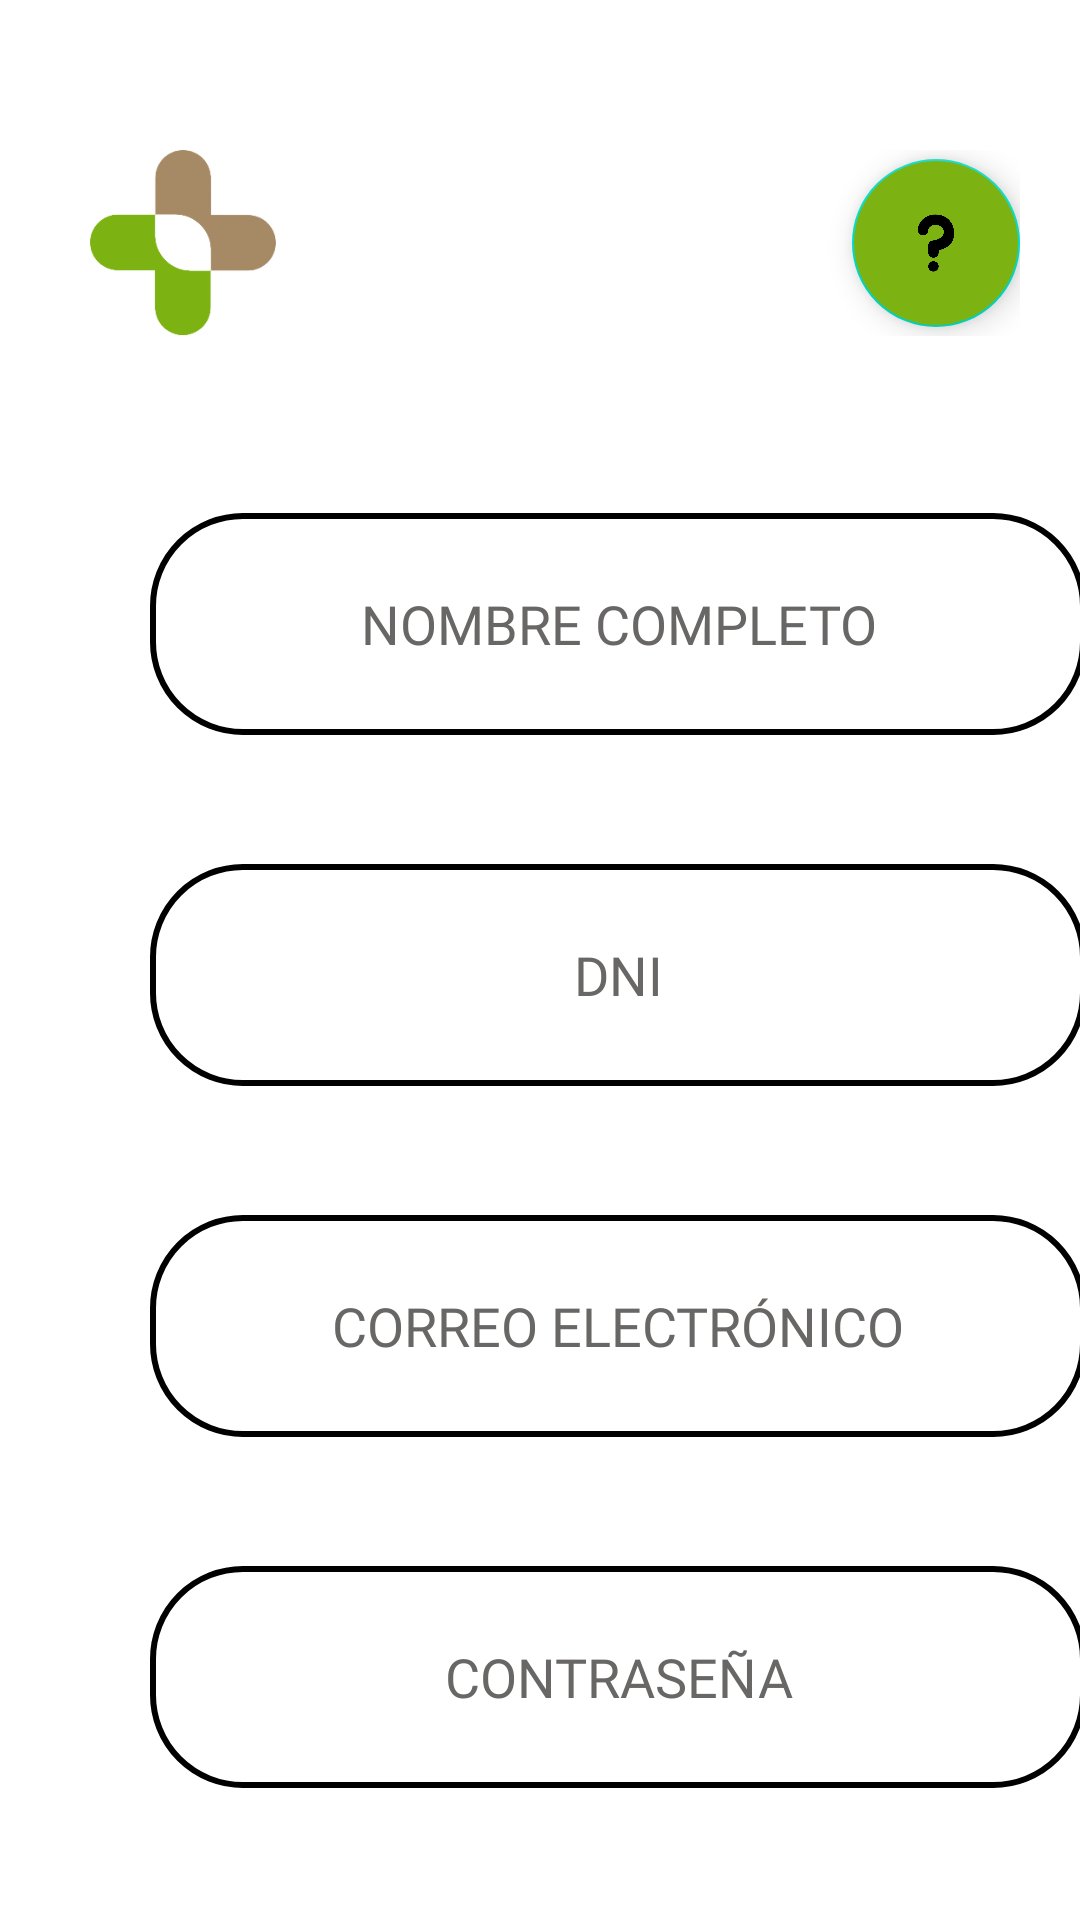

Icons on this 1080px x 1920px Android screen, each with its box as (x1, y1, x2, y2):
ayuda: (852, 159, 1020, 327)
